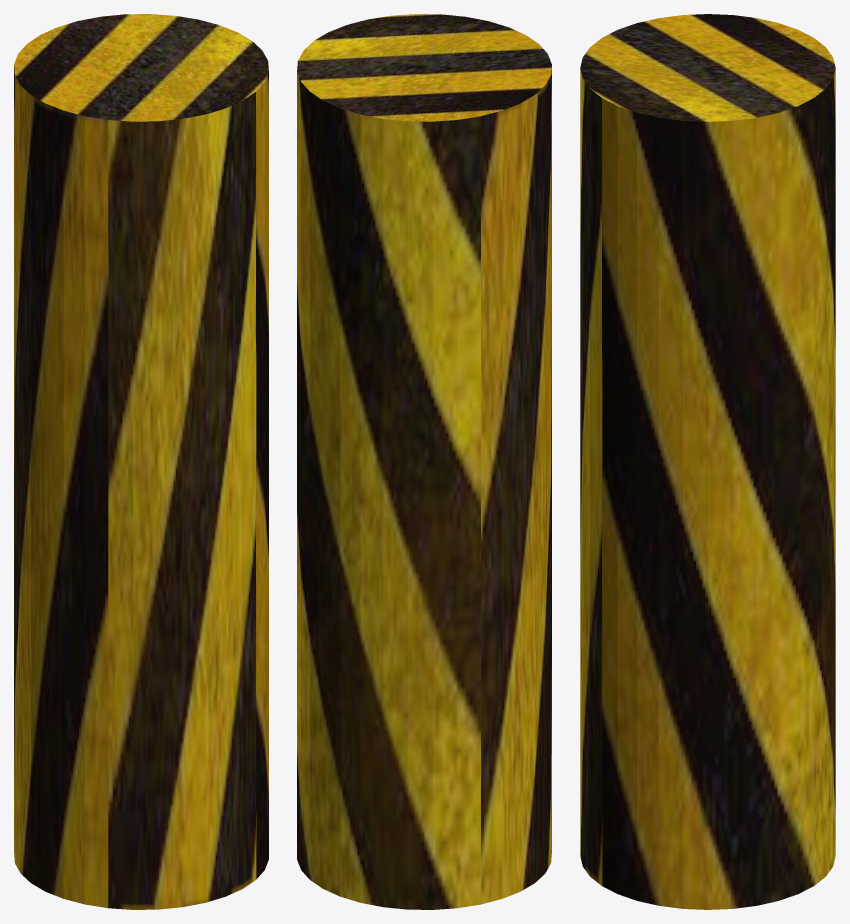
File: caution.obj
3 renders of one model, left to right at view 1: azimuth 30°, elevation 25°; view 2: azimuth 150°, elevation 25°; view 3: azimuth 270°, elevation 25°, orthographic.
Parts seen in each view (by area): view 1: Cylinder; view 2: Cylinder; view 3: Cylinder.
Part boxes in pixels (box(x1,y1,x2,y2)): Cylinder: box(14, 14, 268, 909); Cylinder: box(297, 14, 551, 909); Cylinder: box(580, 14, 835, 909).
Size of the model in its own units: 2 by 6.81 by 2.
Materials: 1 (1 with a texture image).
